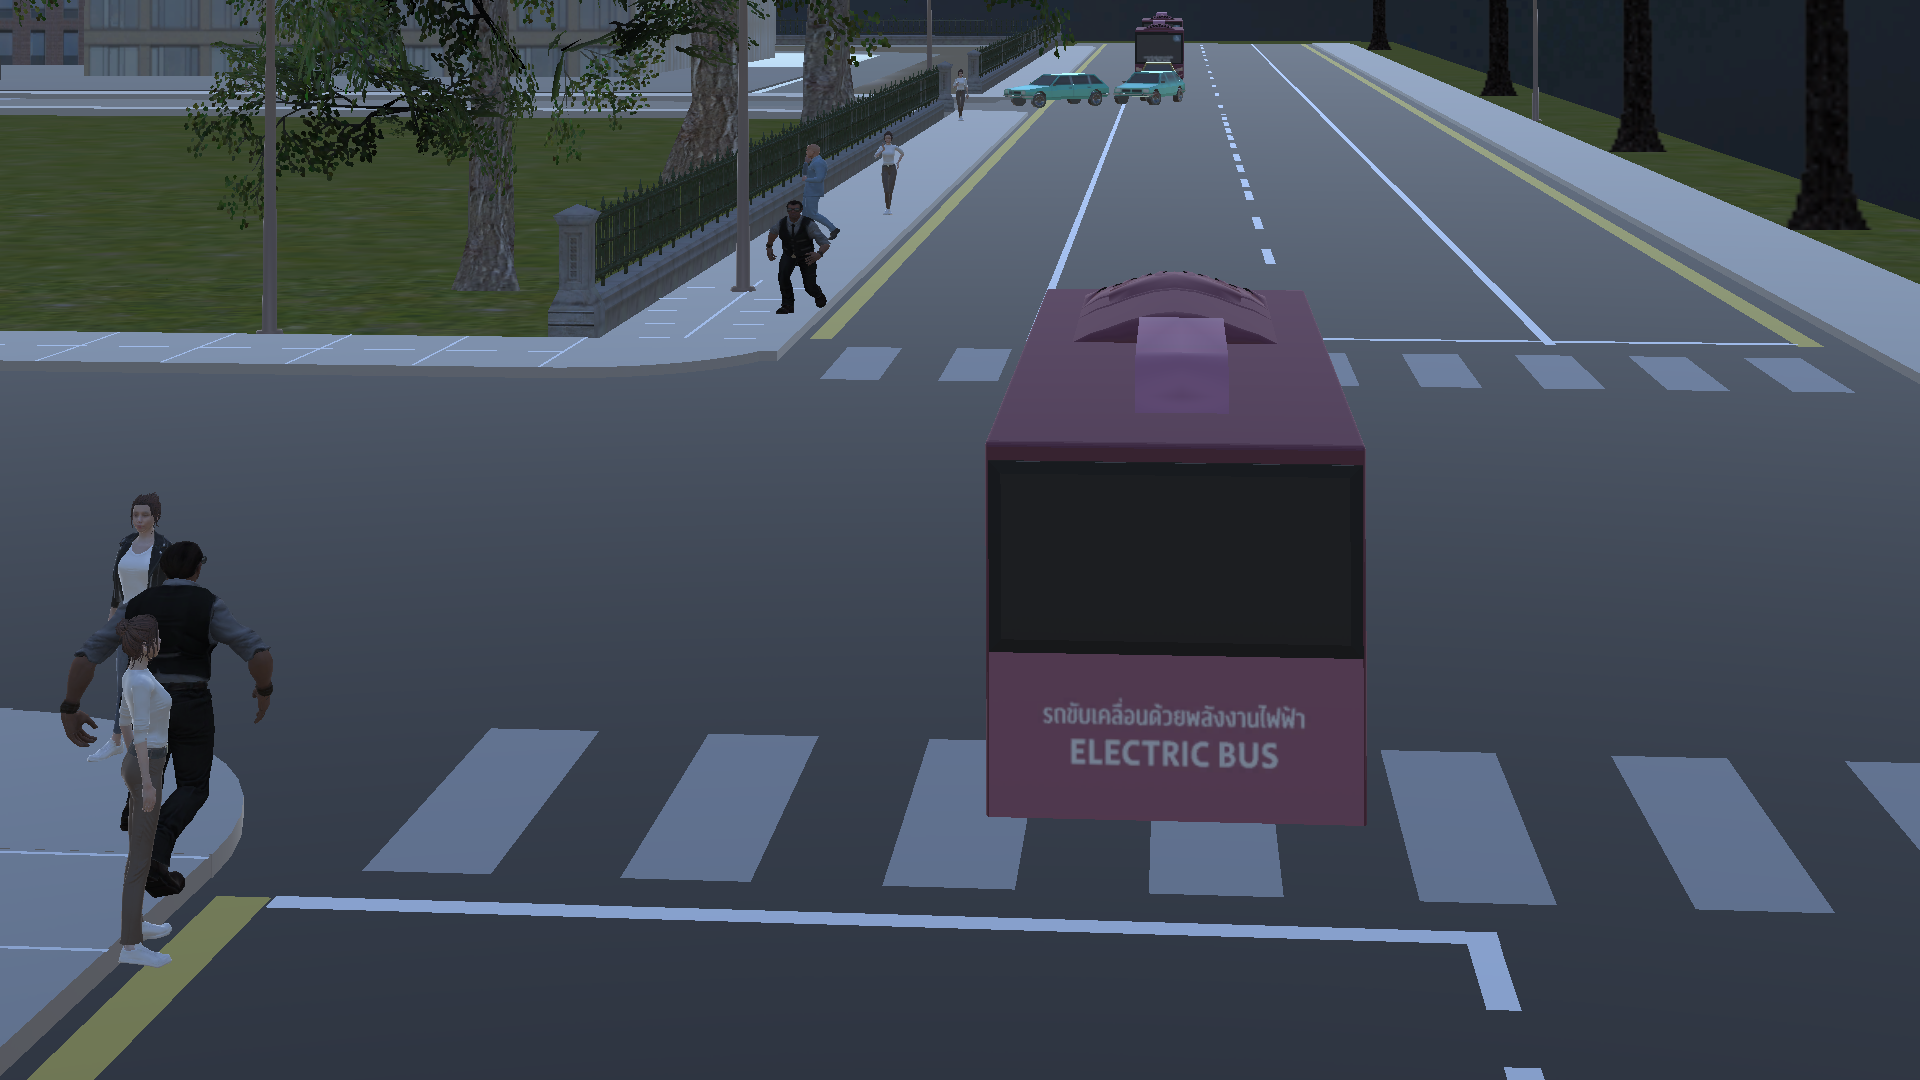pedestrian: (157, 539, 257, 915), (106, 608, 173, 968), (106, 456, 165, 605), (764, 196, 833, 322), (800, 137, 839, 254), (869, 126, 901, 224)
